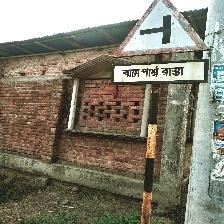Side-road-left: (112, 0, 211, 85)
